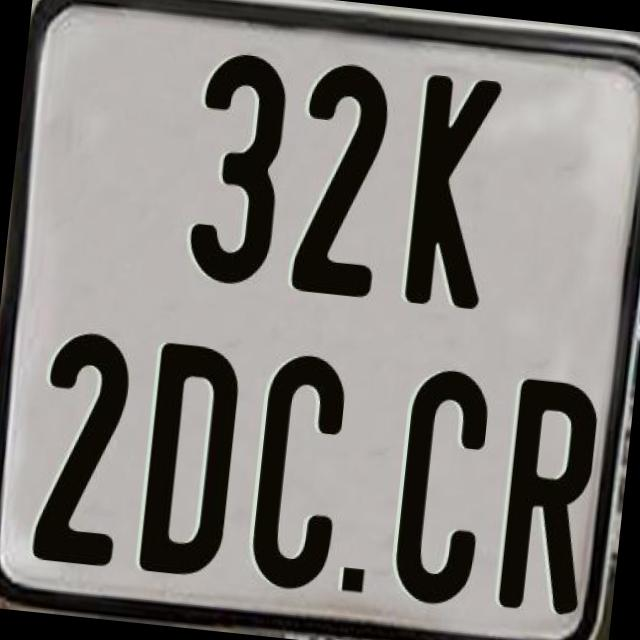2: (29, 329, 140, 569), (286, 58, 392, 300)
3: (184, 46, 294, 284)
C: (245, 352, 352, 600), (386, 367, 492, 617)
D: (135, 340, 243, 586)
K: (402, 69, 502, 306)
R: (495, 378, 604, 626)
